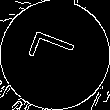L_E: (26, 32, 84, 78)
